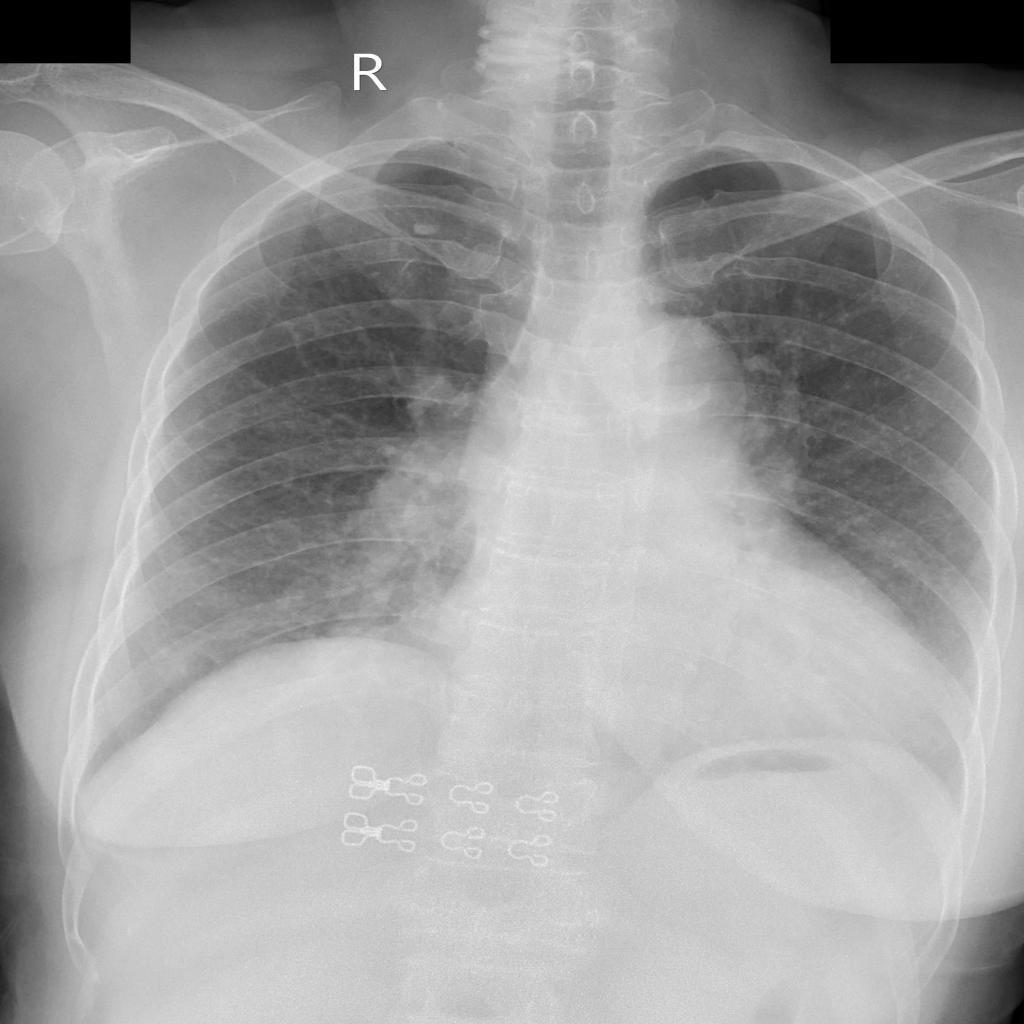Nodule: (410, 226, 438, 236)
